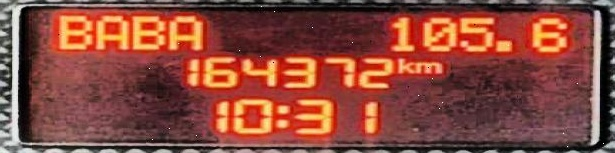-: (493, 37, 514, 53)
0: (231, 97, 269, 136), (419, 15, 456, 52)
1: (386, 14, 414, 53), (359, 98, 380, 136), (211, 97, 228, 136), (186, 55, 200, 91)
2: (357, 56, 389, 89)
3: (293, 97, 332, 135), (279, 56, 316, 88)
4: (239, 57, 275, 87)
5: (457, 14, 494, 53)
6: (528, 14, 570, 54), (201, 55, 238, 89)
7: (324, 55, 354, 89)
X: (56, 12, 91, 51), (165, 12, 201, 49), (131, 13, 165, 50), (94, 14, 127, 50), (274, 102, 291, 127), (413, 59, 442, 73), (395, 55, 413, 74)
